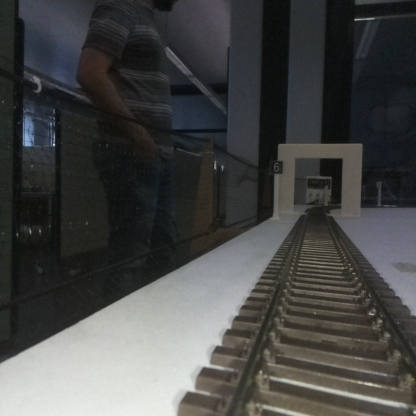black-info-6: (269, 161, 282, 218)
